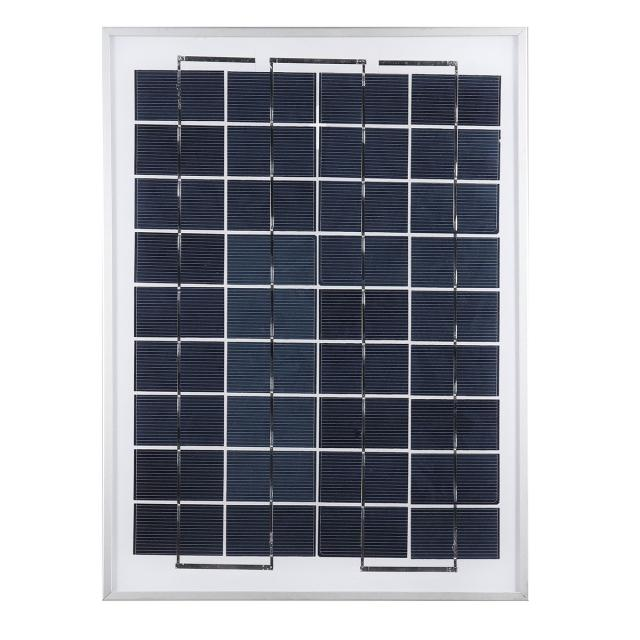clean-solar-panel: (228, 181, 270, 230)
